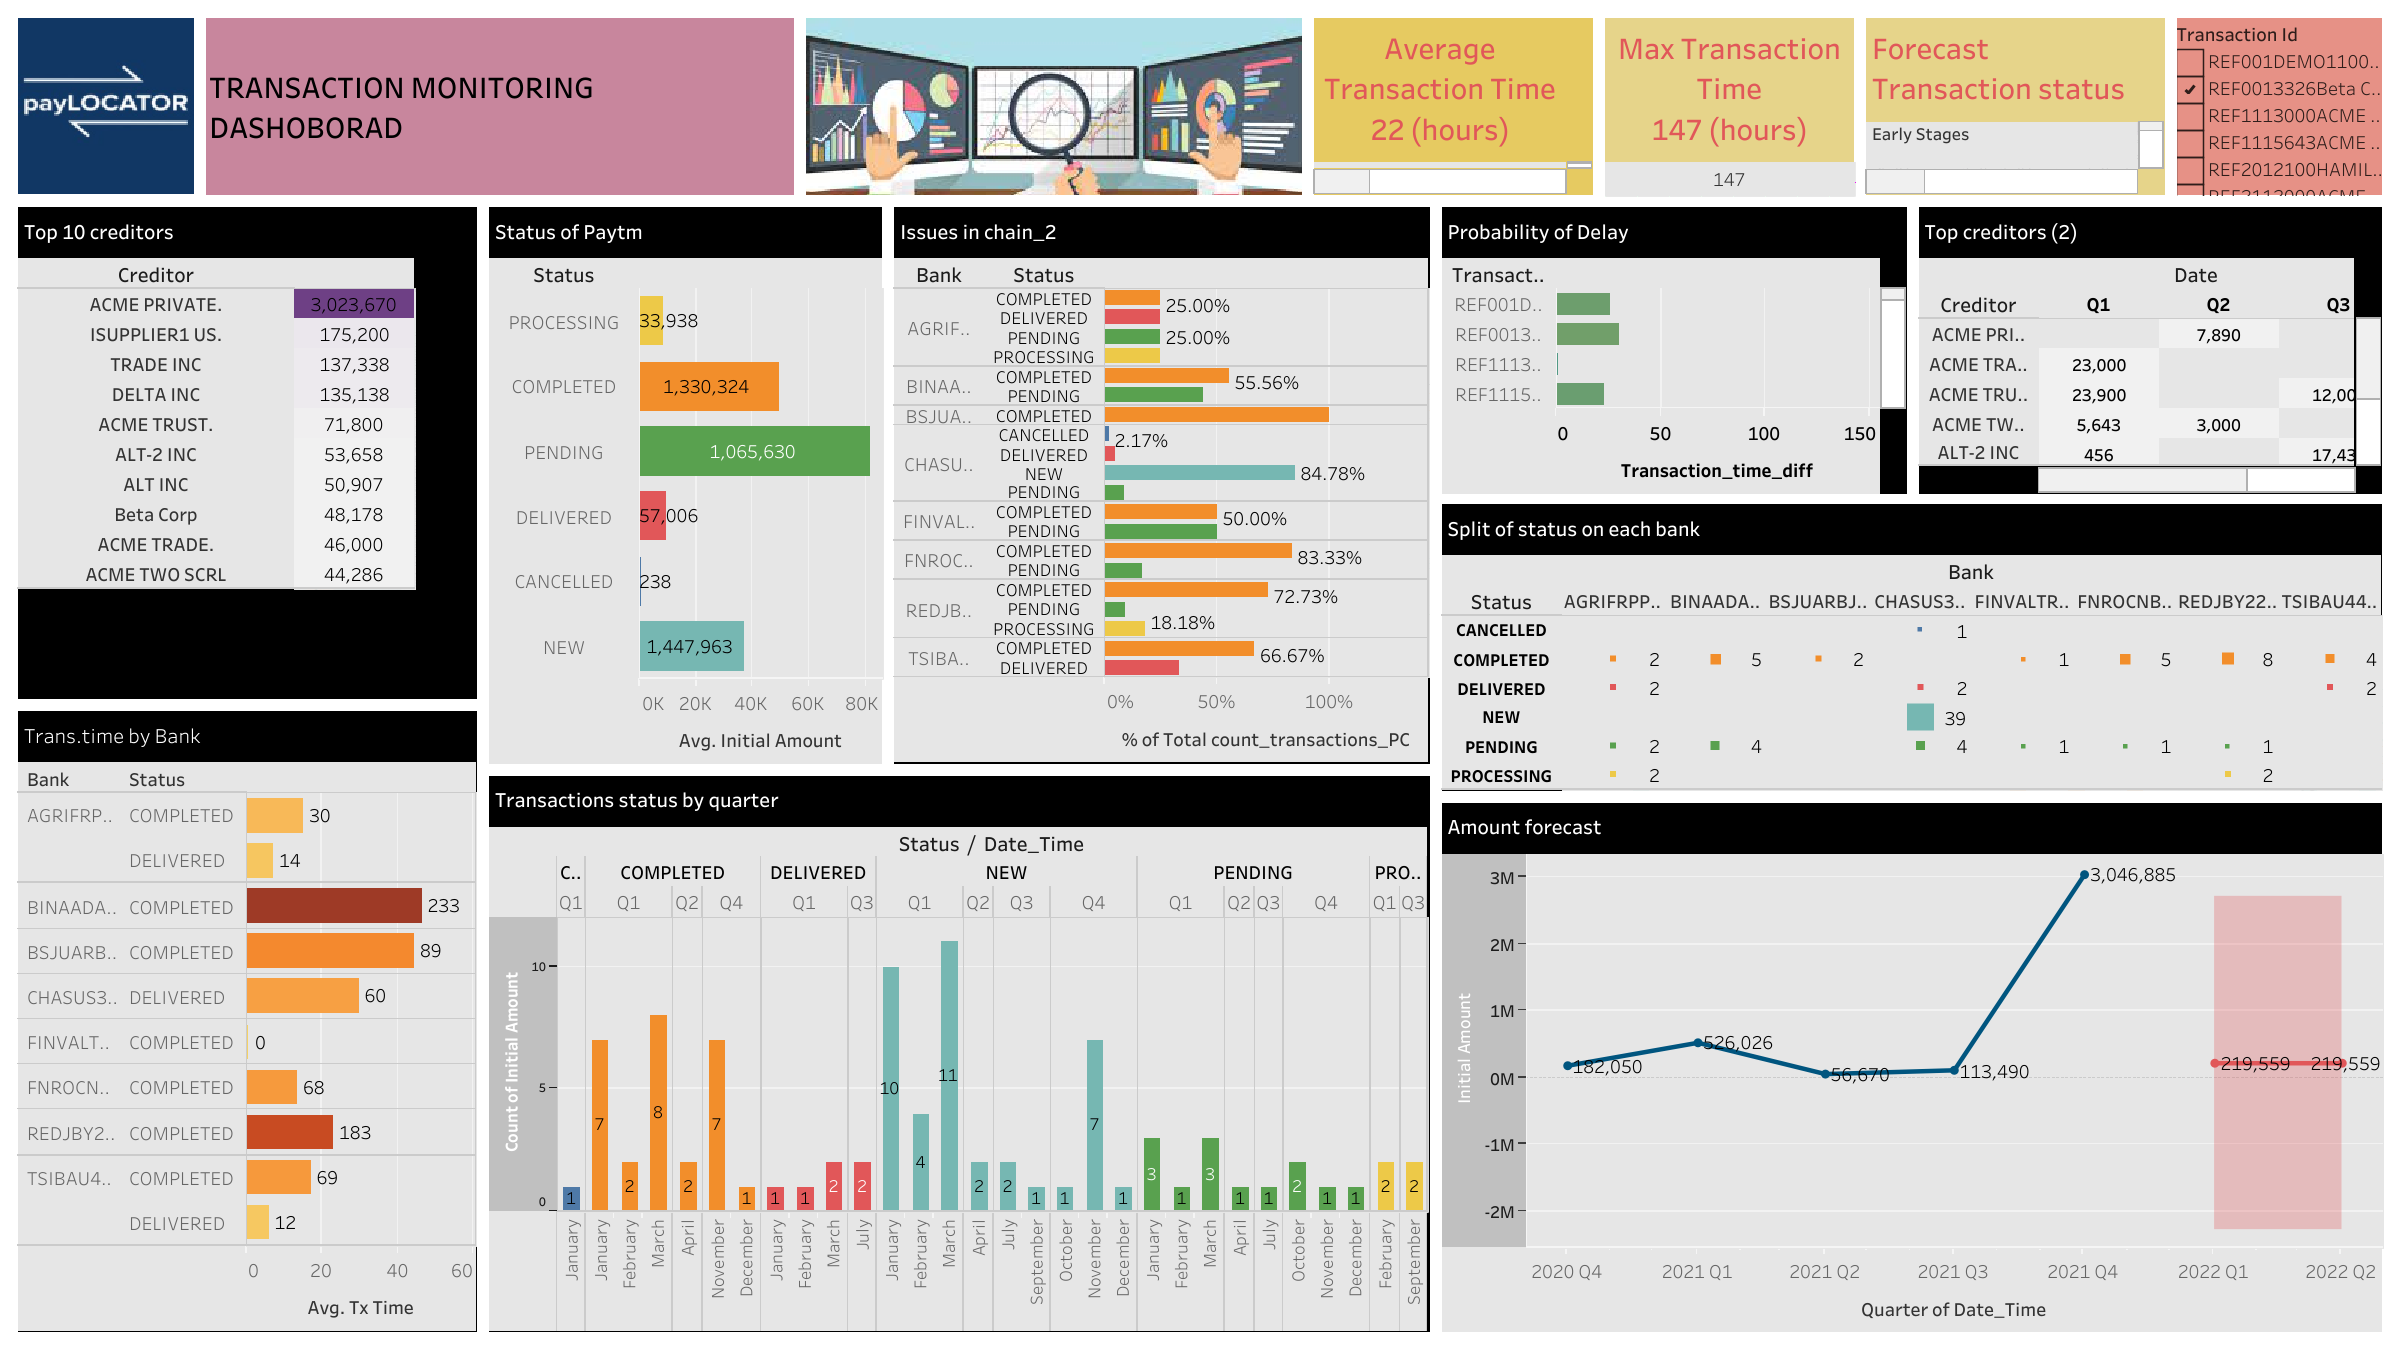

The page's visual inventory and layout, read from the dashboard file:
{"tool":"tableau","page":{"name":"payLOCATOR dashboard","canvas":[1600,900],"ordinal":0},"visuals":[{"type":"image","param":"C:/Users/manu2/Desktop/Tableau and sql preps/[number redacted].jpg","box":[8,8,125,126]},{"type":"text","box":[133,8,400,126]},{"type":"image","param":"C:/Users/manu2/Desktop/Tableau and sql preps/download (1).jpg","box":[533,8,339,126]},{"type":"worksheet","title":"Average_Transaction_Time","mark":"Automatic","box":[872,8,194,126]},{"type":"worksheet","title":"Maximum_Time","mark":"Automatic","box":[1066,8,174,126]},{"type":"worksheet","title":"Forecast_status","mark":"Automatic","box":[1240,8,207,126]},{"type":"filter","title":"Forecast_status","param":"[federated.0gwyy9a00c10rw12tcvzq1yqzb7j].[none:TransactionId:nk]","box":[1447,8,145,126]},{"type":"worksheet","title":"Top 10 creditors","mark":"Square","rows":["Creditor"],"box":[8,134,313.7,336]},{"type":"worksheet","title":"status of paytm","mark":"Automatic","rows":["Status"],"cols":["InitialAmount"],"box":[321.7,134,270.3,379]},{"type":"worksheet","title":"Issues in chain_2","mark":"Automatic","rows":["Bank","Status"],"box":[592,134,364.8,379]},{"type":"worksheet","title":"Probability of Delay","mark":"Automatic","rows":["TransactionId"],"cols":["Calculation_1621577360583192580"],"box":[956.8,134,318.2,198.5]},{"type":"worksheet","title":"Top creditors (2)","mark":"Square","rows":["Creditor"],"cols":["Date"],"box":[1275,134,317,198.5]},{"type":"worksheet","title":"Split of status on each bank","mark":"Automatic","rows":["Status"],"cols":["Bank"],"box":[956.8,332.5,635.2,198.5]},{"type":"worksheet","title":"Trans.time by Bank","mark":"Automatic","rows":["Bank","Status"],"cols":["Calculation_1621577360563834880"],"box":[8,470,313.7,422]},{"type":"worksheet","title":"Transactions status by quarter","mark":"Bar","rows":["InitialAmount"],"cols":["Status","Calculation_1621577360567980033","Calculation_1621577360567980033"],"box":[321.7,513,635.2,379]},{"type":"worksheet","title":"Amount forecast","mark":"Automatic","rows":["InitialAmount"],"cols":["Calculation_1621577360567980033"],"box":[956.8,531,635.2,361]}]}

Visuals, with their boxes in screenshot pixels (x1, y1, x2, y2), scaled from the page's 1600x900 canvas onto the 2399x1349 screenshot:
image: <box>12,12,199,201</box>
text: <box>199,12,799,201</box>
image: <box>799,12,1307,201</box>
"Average_Transaction_Time" worksheet: <box>1307,12,1598,201</box>
"Maximum_Time" worksheet: <box>1598,12,1859,201</box>
"Forecast_status" worksheet: <box>1859,12,2170,201</box>
"Forecast_status" filter: <box>2170,12,2387,201</box>
"Top 10 creditors" worksheet (Square marks): <box>12,201,482,704</box>
"status of paytm" worksheet: <box>482,201,888,769</box>
"Issues in chain_2" worksheet: <box>888,201,1435,769</box>
"Probability of Delay" worksheet: <box>1435,201,1912,498</box>
"Top creditors (2)" worksheet (Square marks): <box>1912,201,2387,498</box>
"Split of status on each bank" worksheet: <box>1435,498,2387,796</box>
"Trans.time by Bank" worksheet: <box>12,704,482,1337</box>
"Transactions status by quarter" worksheet (Bar marks): <box>482,769,1435,1337</box>
"Amount forecast" worksheet: <box>1435,796,2387,1337</box>
